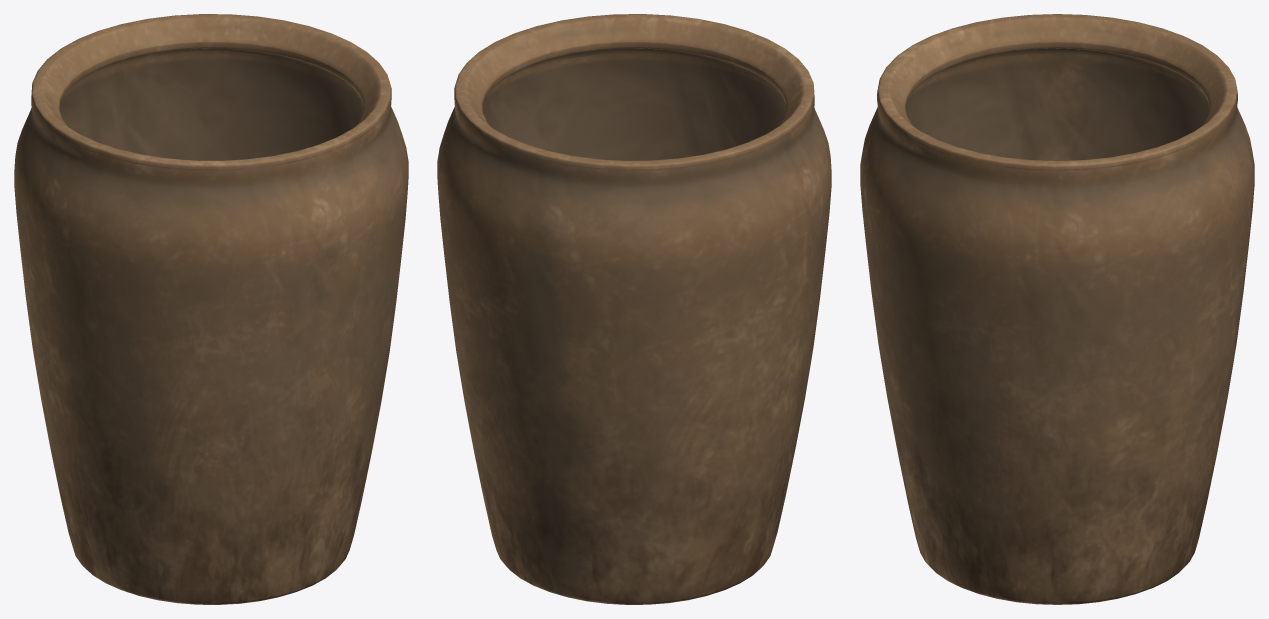
Rendered from PotAPBR_NoTex.fbx.
3 views of the same model, side by side, from view 1: azimuth 30°, elevation 25°; view 2: azimuth 150°, elevation 25°; view 3: azimuth 270°, elevation 25° (orthographic).
Visible parts, largest first — view 1: SM_Pot_A_Body; view 2: SM_Pot_A_Body; view 3: SM_Pot_A_Body.
Boxes of the visible parts, left/top/right/bottom form: SM_Pot_A_Body: left=14, top=14, right=408, bottom=604; SM_Pot_A_Body: left=437, top=14, right=831, bottom=604; SM_Pot_A_Body: left=860, top=14, right=1254, bottom=604.
Size of the model in its own units: 0.3373 by 0.4352 by 0.3373.
